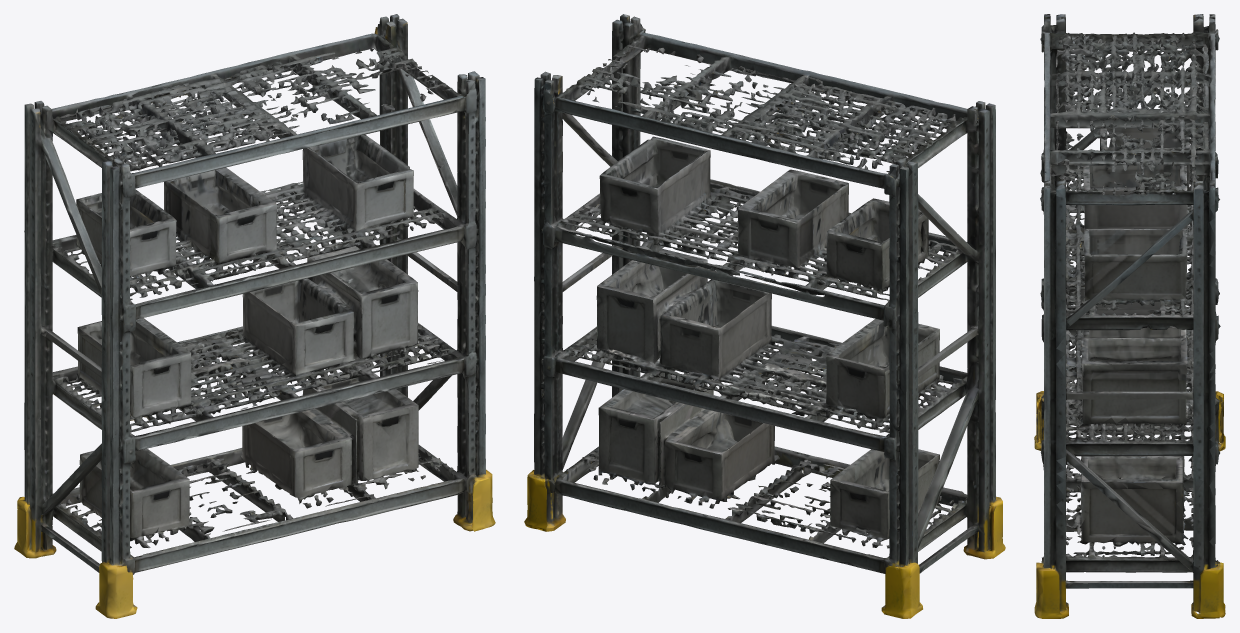
File: Props_PalletStorageRack.fbx
3 renders of one model, left to right at view 1: azimuth 30°, elevation 25°; view 2: azimuth 150°, elevation 25°; view 3: azimuth 270°, elevation 25°, orthographic. The views are drawn at different scales.
Visible parts, largest first — view 1: Props_PalletStorageRack; view 2: Props_PalletStorageRack; view 3: Props_PalletStorageRack.
Boxes of the visible parts, x1,y1,x2,y2 form: Props_PalletStorageRack: [14, 14, 495, 618]; Props_PalletStorageRack: [524, 14, 1005, 618]; Props_PalletStorageRack: [1034, 14, 1225, 618].
Size of the model in its own units: 90.43 by 99.22 by 40.27.
